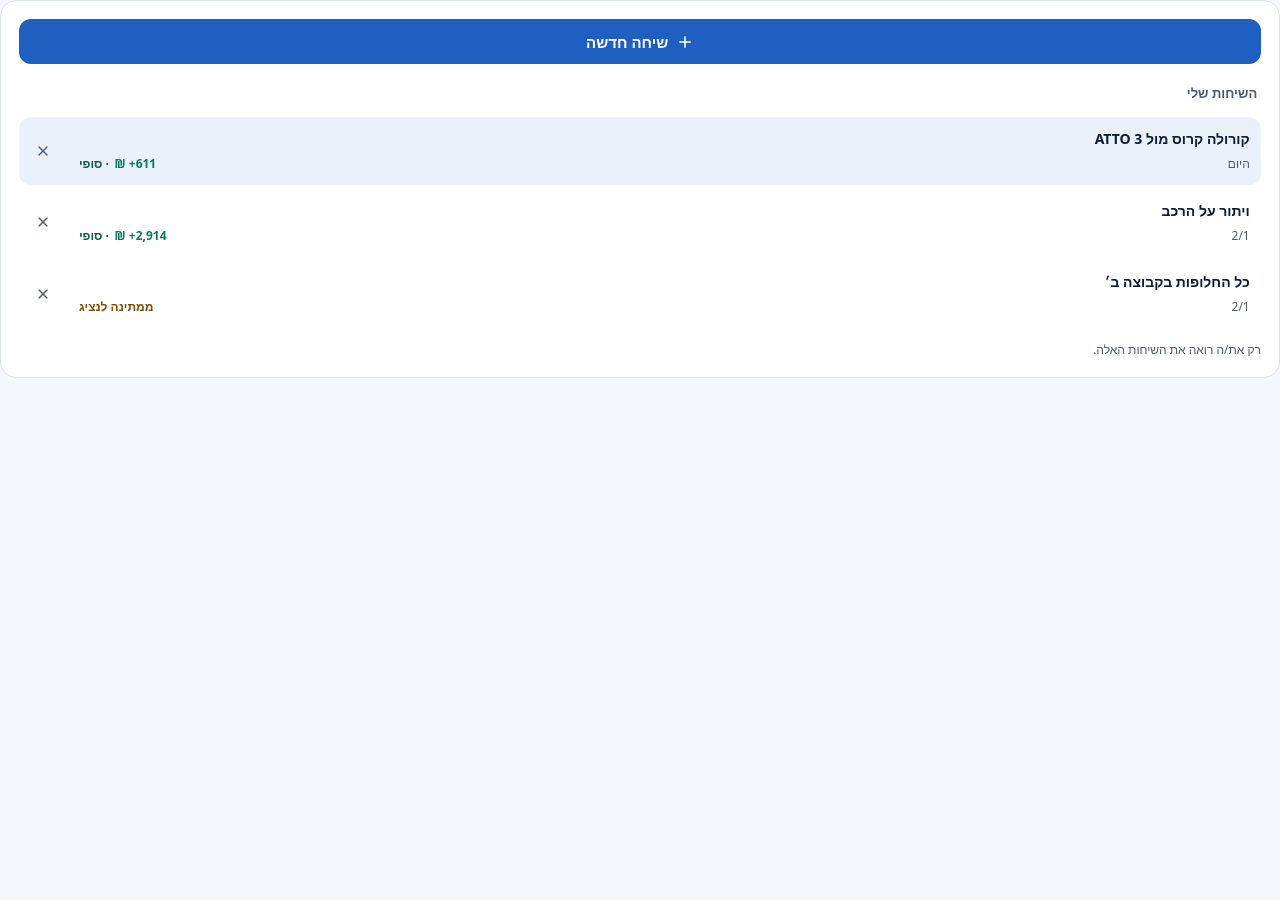
Test: the conversation list › deletes only after a confirmation, and cancel deletes nothing
Click the button named "מחיקת שיחה: ויתור על הרכב". click: (43, 222)
box: [23, 202, 64, 243]
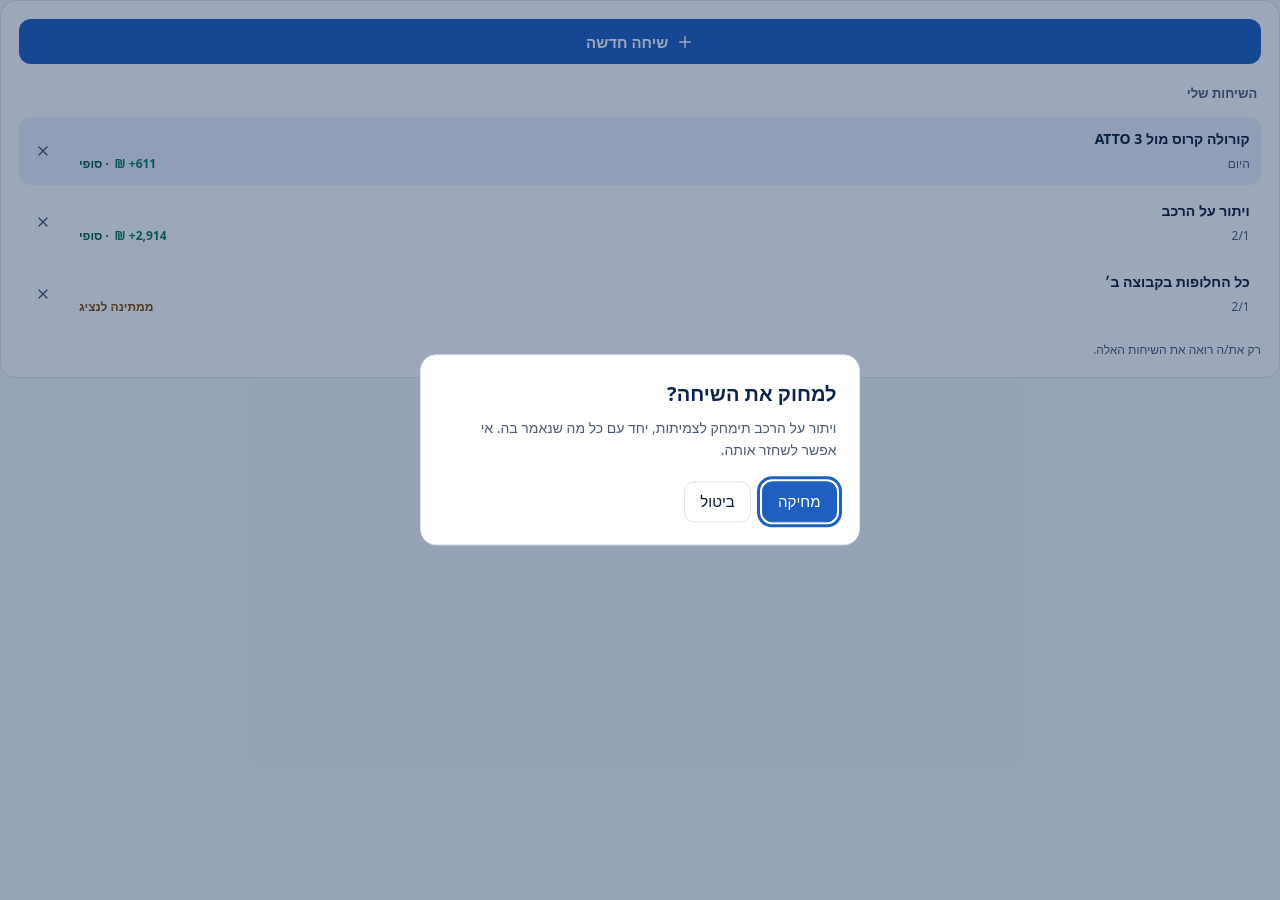
Result: the dialog shows "למחוק את השיחה?" at [667, 380, 836, 407]
Click the button "ביטול". click: (718, 502)
box: [684, 481, 751, 522]
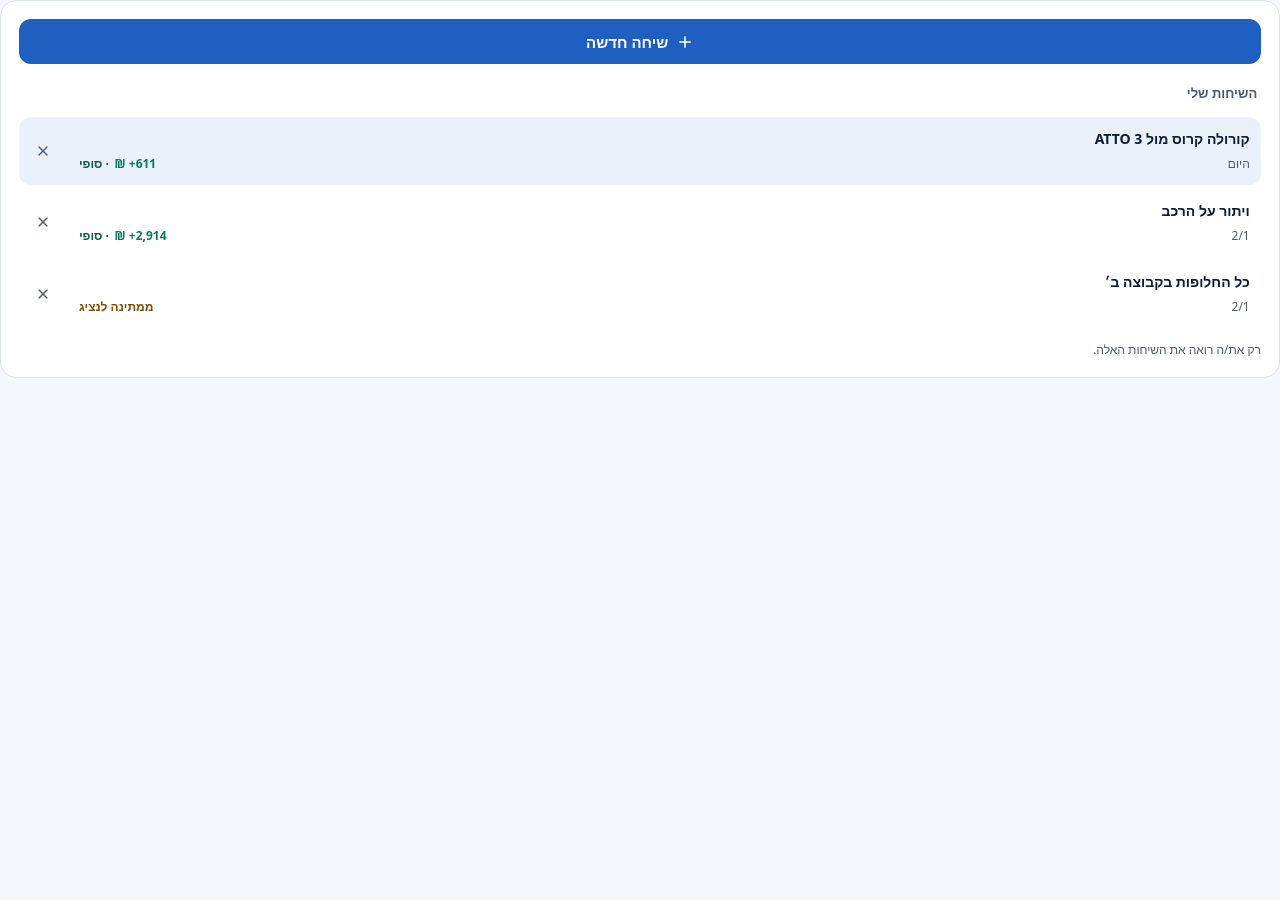
Click the button named "מחיקת שיחה: ויתור על הרכב". click: (43, 222)
box: [23, 202, 64, 243]
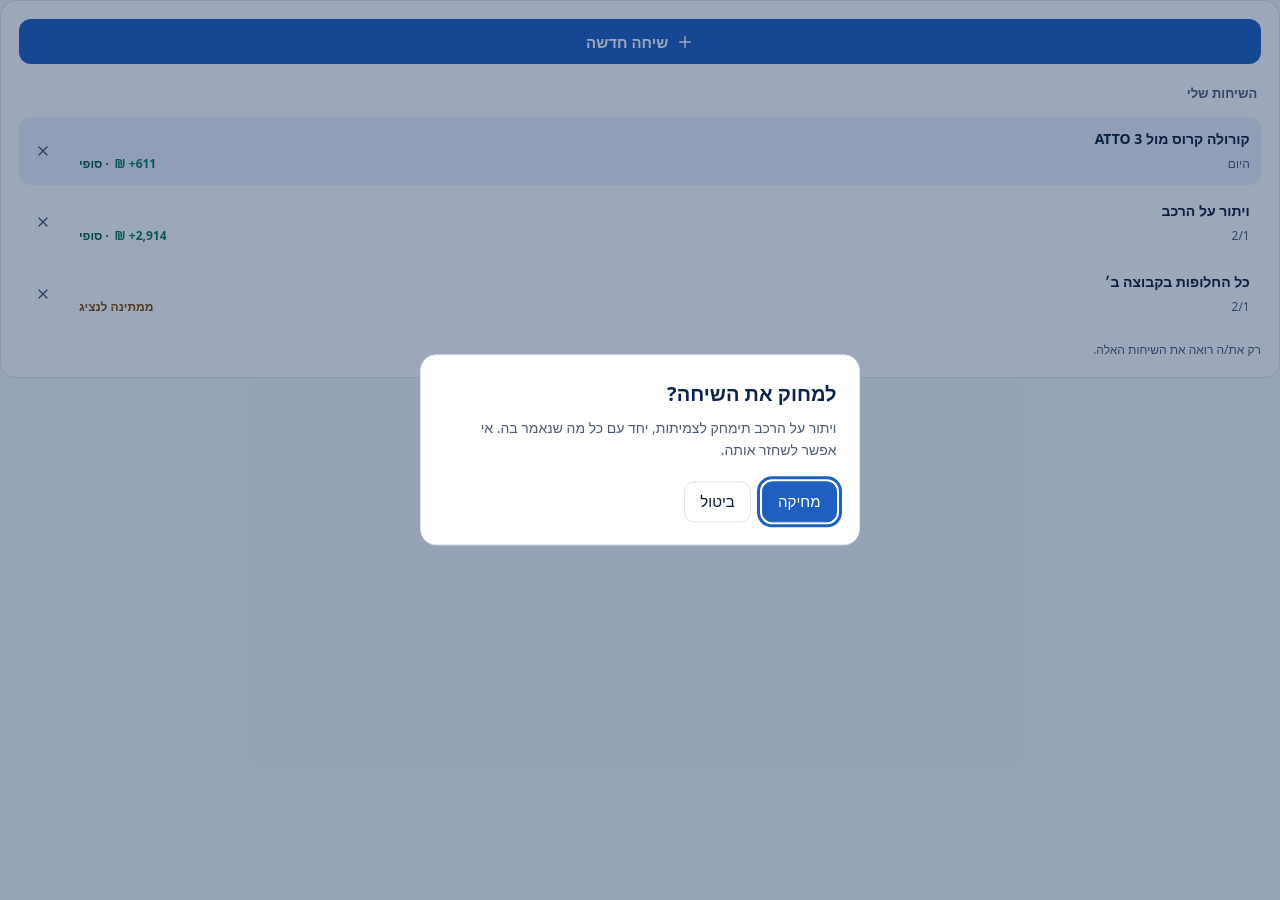
Click the button "מחיקה". click: (799, 502)
box: [762, 481, 836, 522]
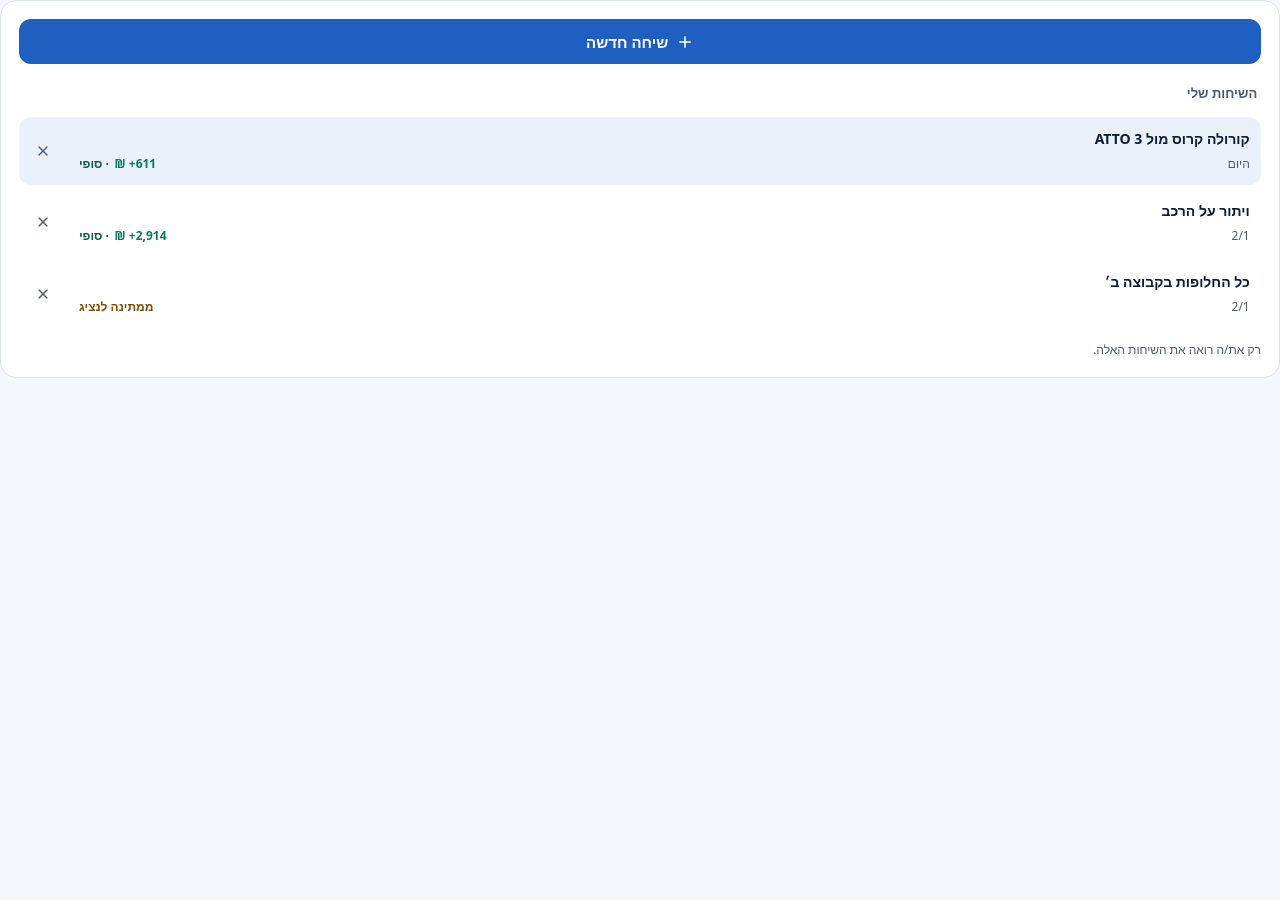
Result: the dialog is gone
